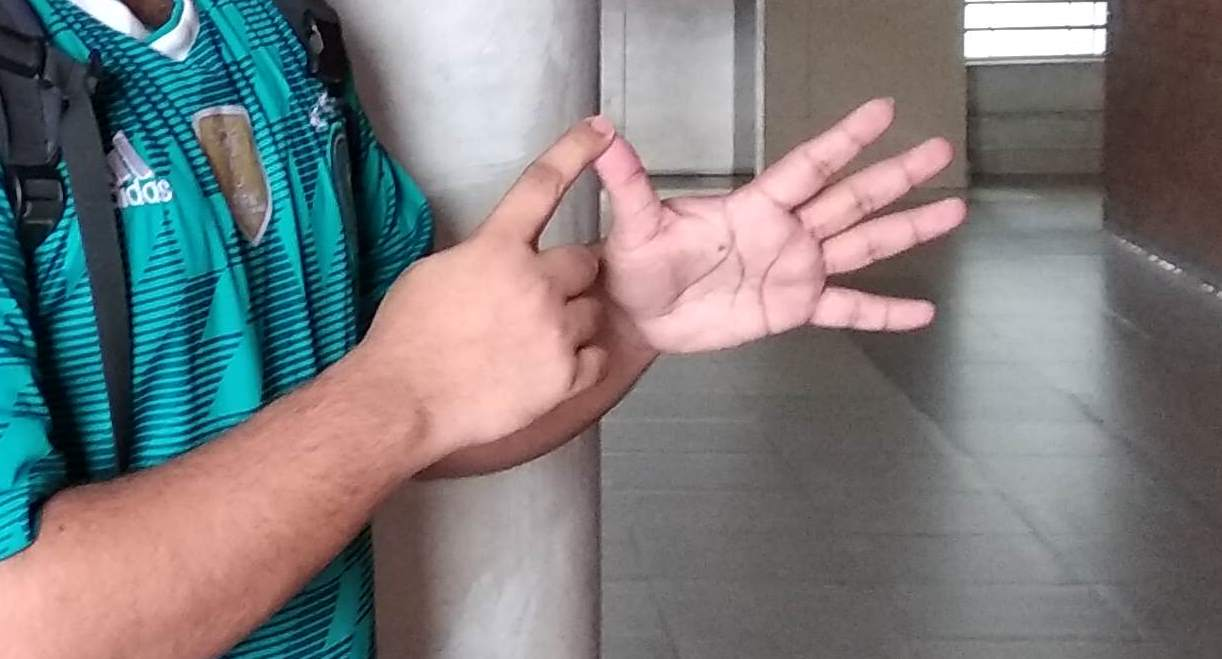a: (440, 86, 929, 373)
